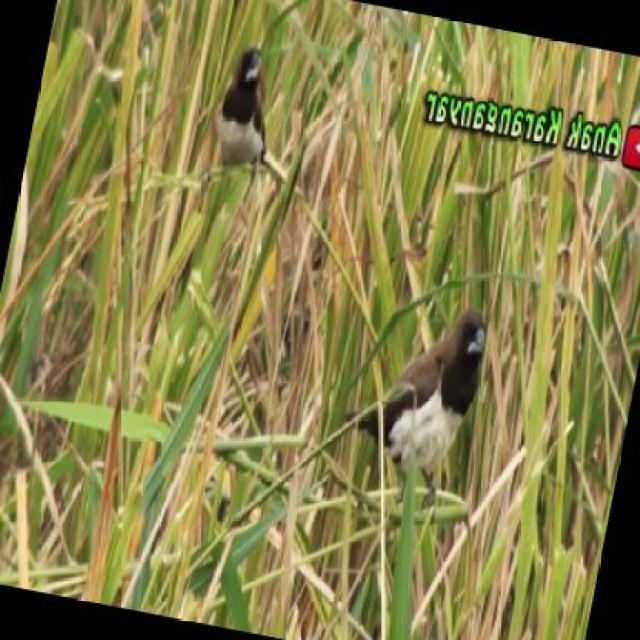Bird: (349, 305, 489, 492), (210, 44, 270, 173)
